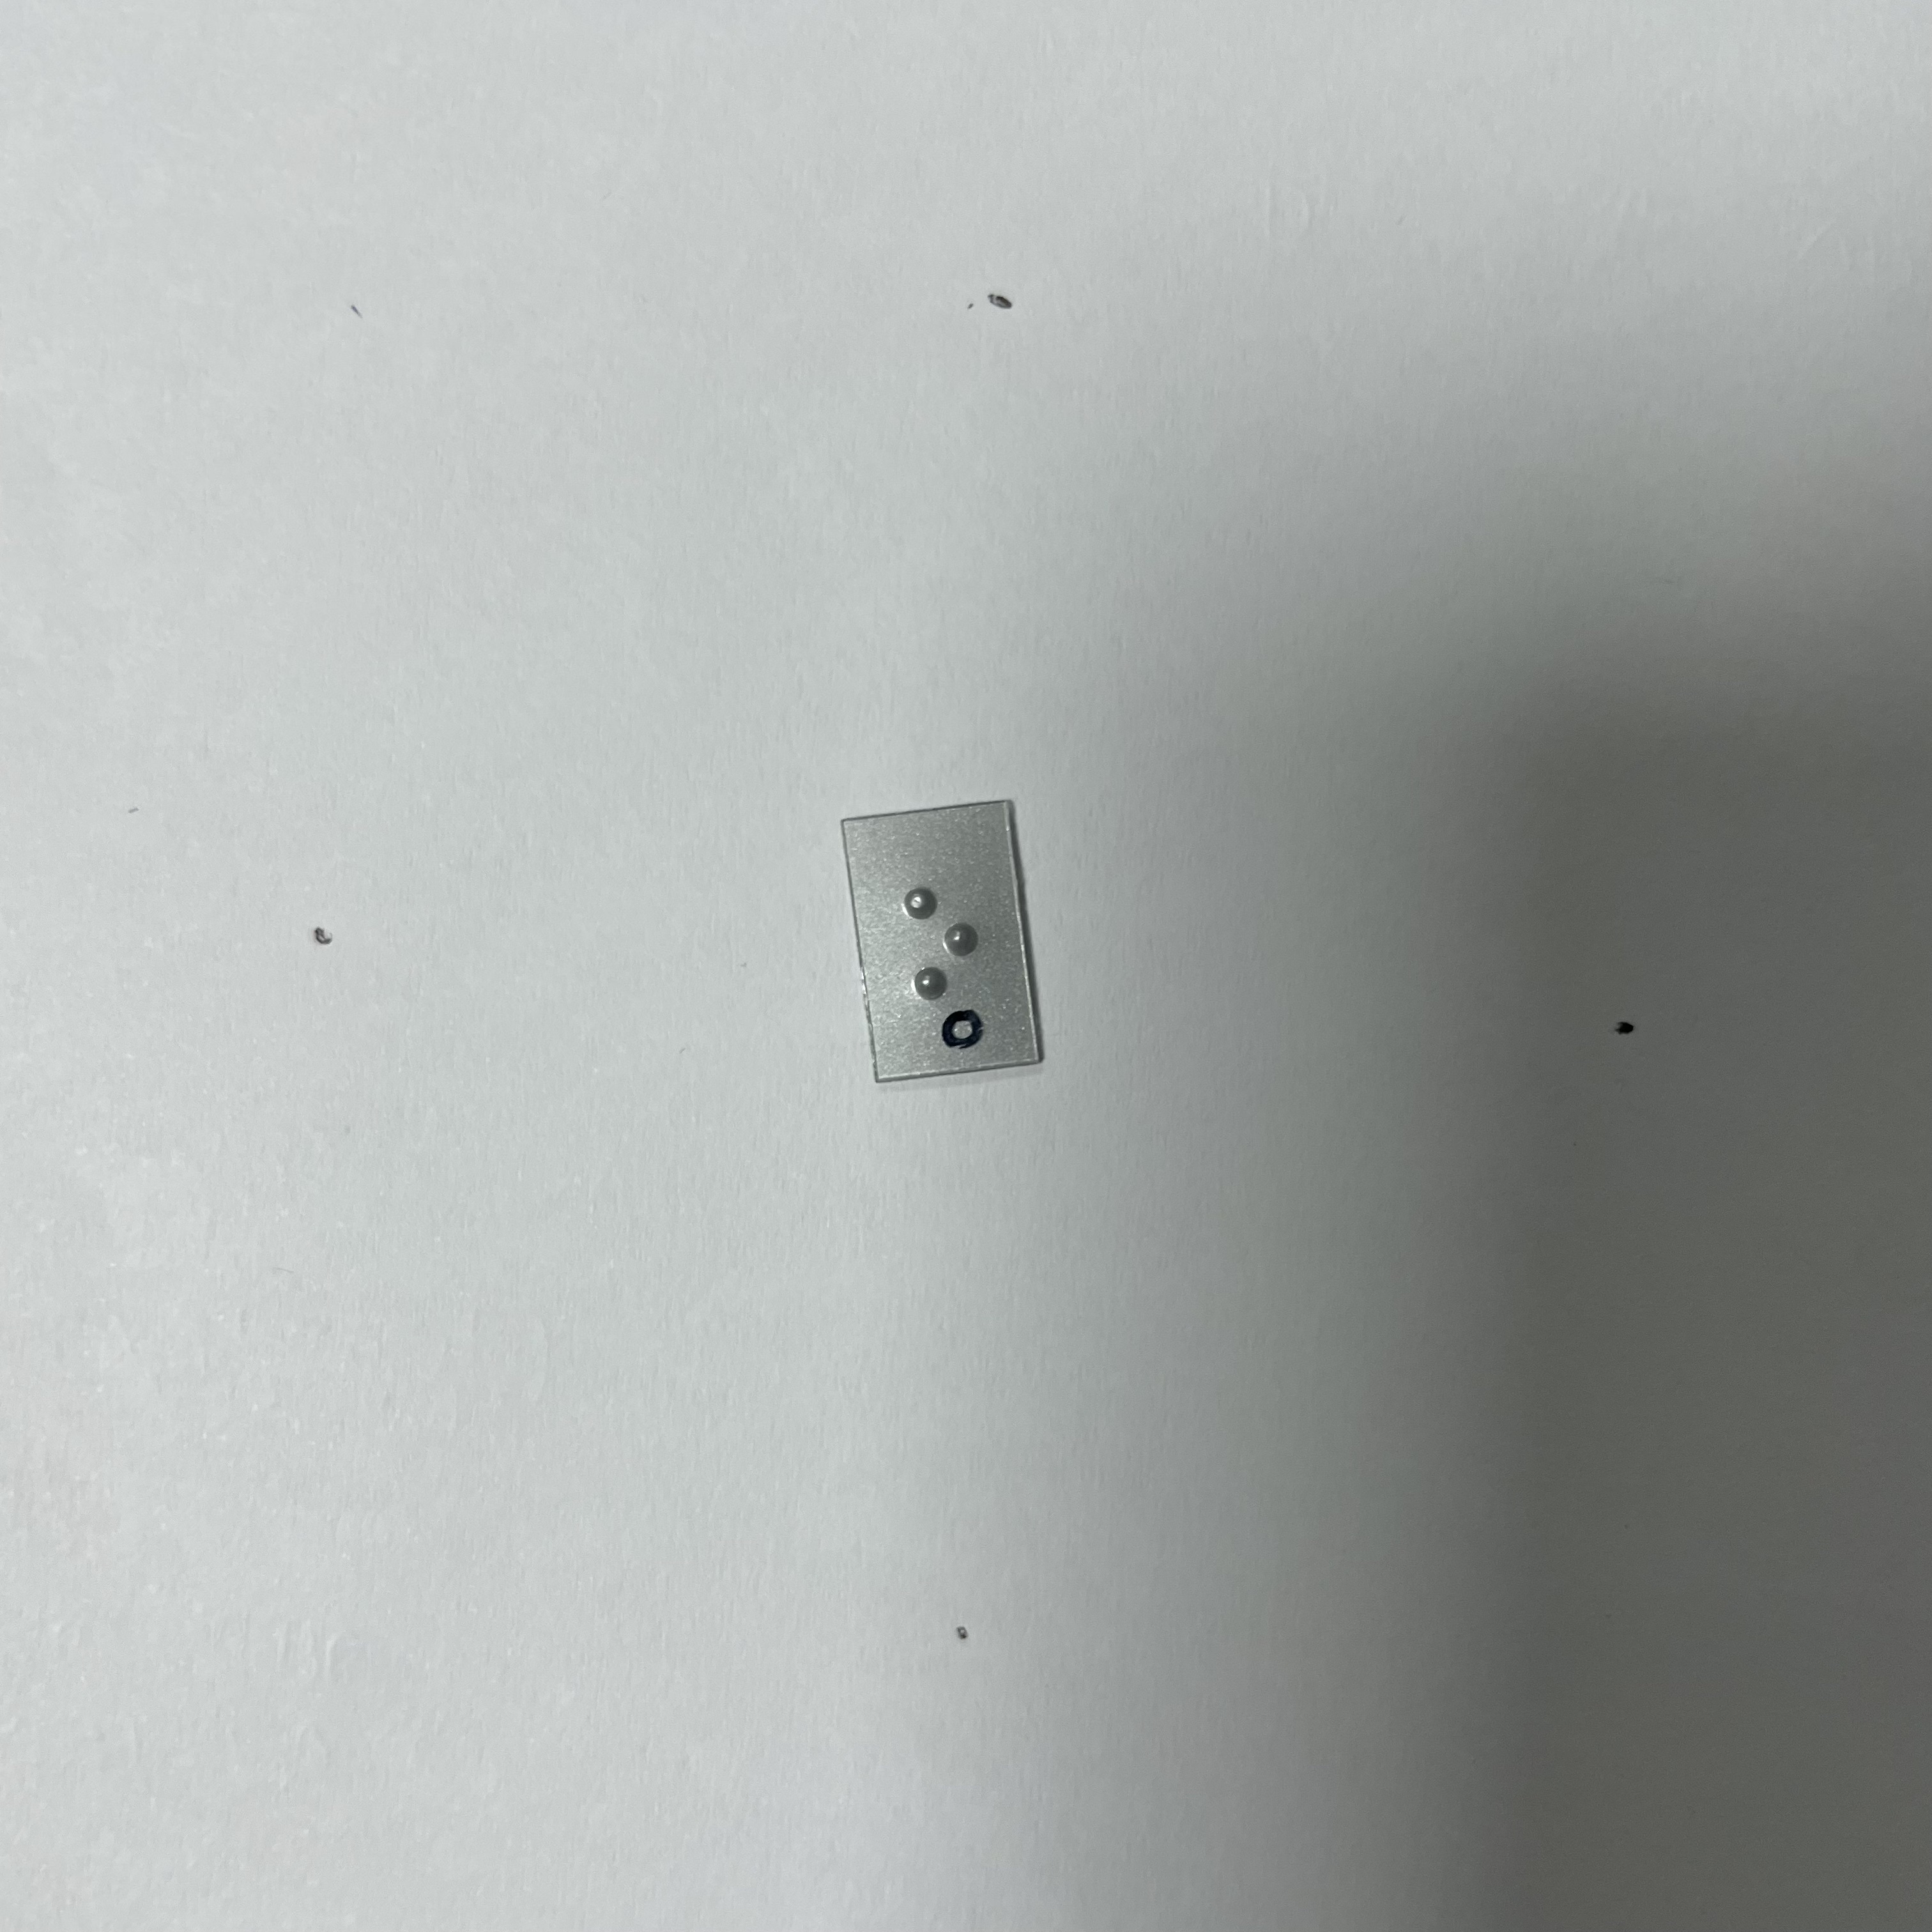o: (893, 871, 1006, 1011)
